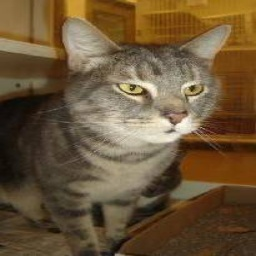cat: (15, 16, 228, 245)
